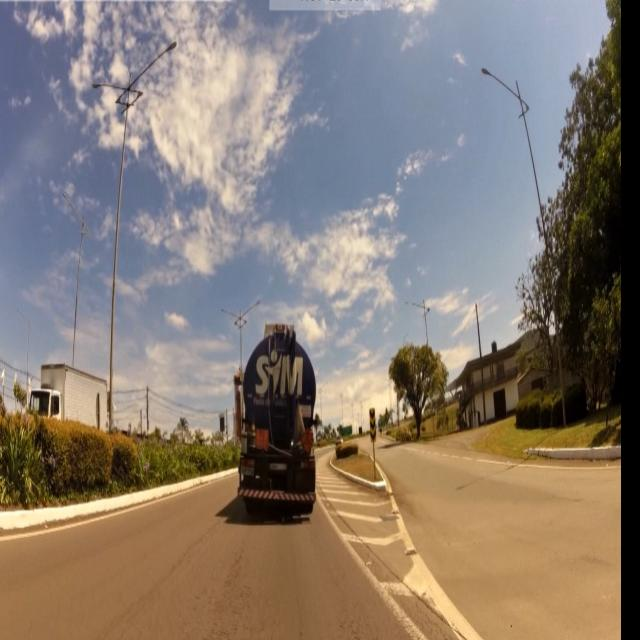MP: (370, 408, 378, 447)
